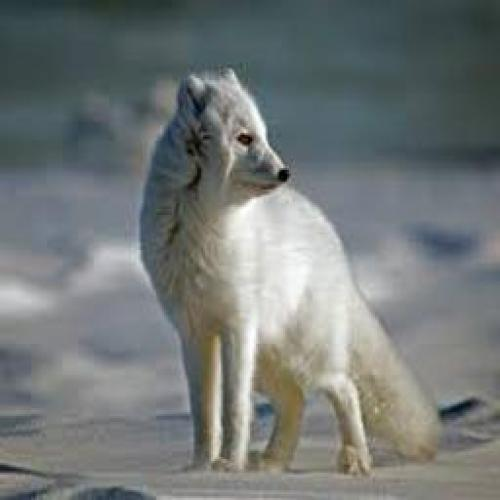arctic_fox-endangered: (146, 69, 440, 466)
